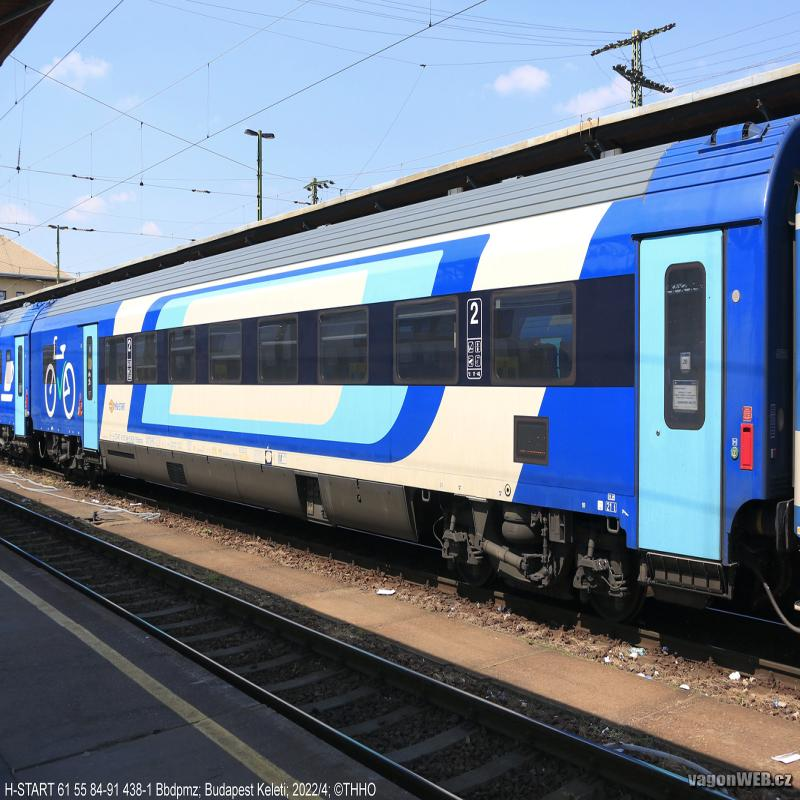train: (32, 108, 800, 666)
